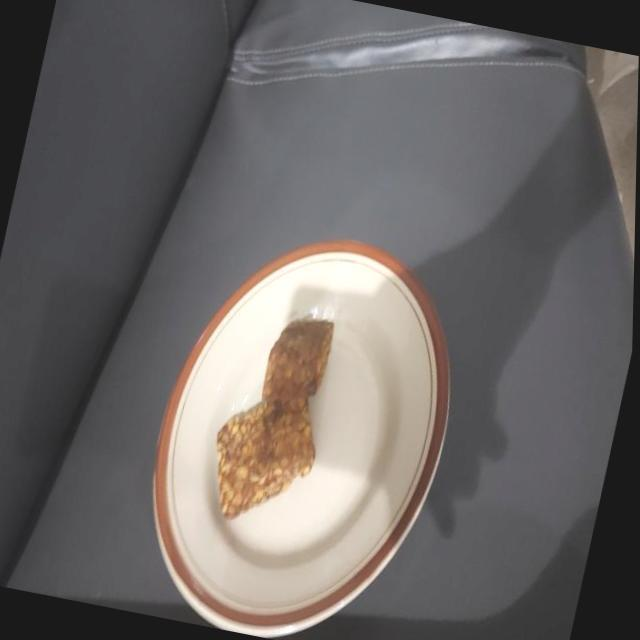tempe_goreng: (217, 398, 315, 518), (263, 317, 334, 403)
